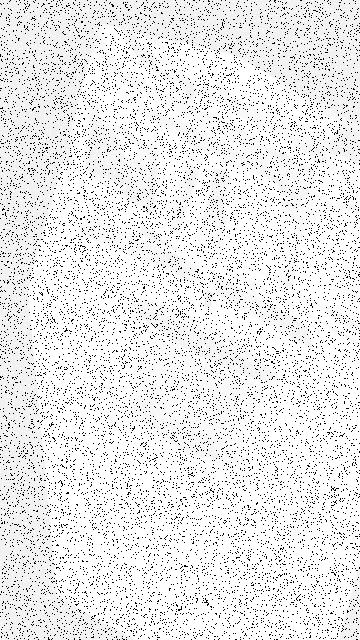pot: (127, 296, 279, 462)
